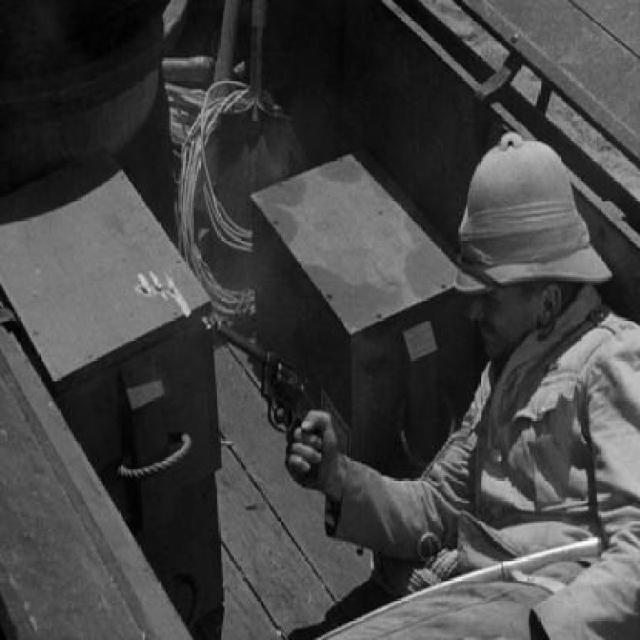gun: (197, 292, 328, 451)
